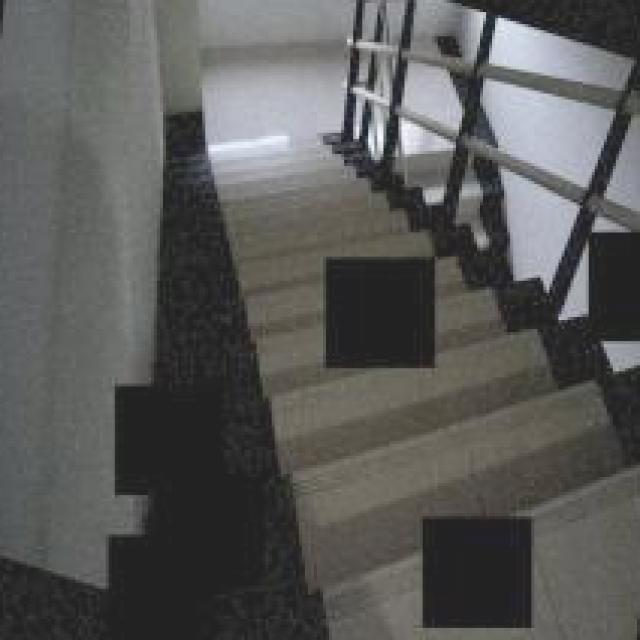downstair: (167, 149, 390, 239)
